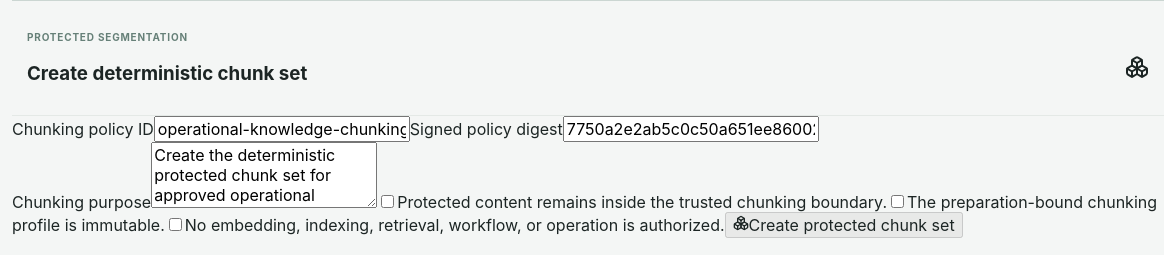
Test case: DeterministicChunkingPanel › creates only a minimized deterministic chunk-set receipt
Expected: the button "Create protected chunk set" is disabled, [725,212,963,238]
Click the checkbox labelled "Protected content remains inside the trusted chunking boundary.". click: (388, 202)
box: [381,195,394,208]
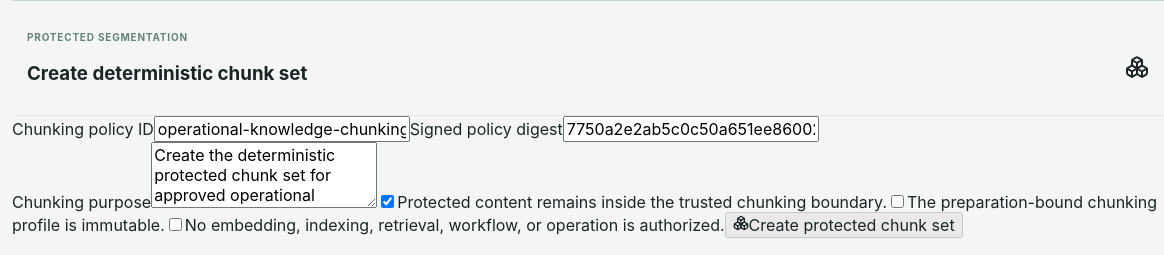
Click the checkbox labelled "The preparation-bound chunking profile is immutable.". click: (898, 202)
box: [891,195,904,208]
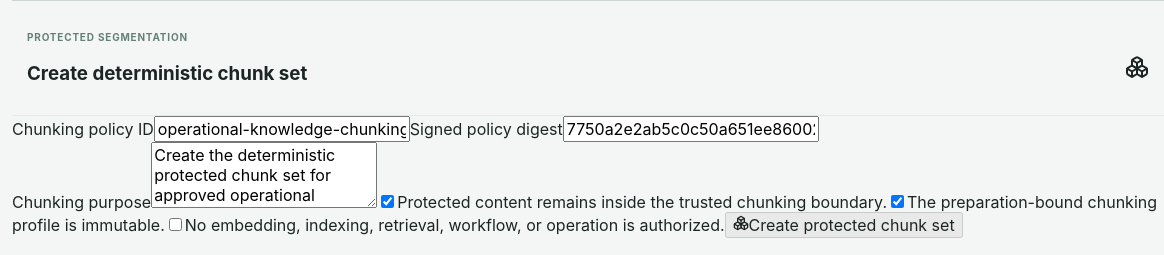
Click the checkbox labelled "No embedding, indexing, retrieval, workflow, or operation is authorized.". click: (175, 225)
box: [169,218,182,231]
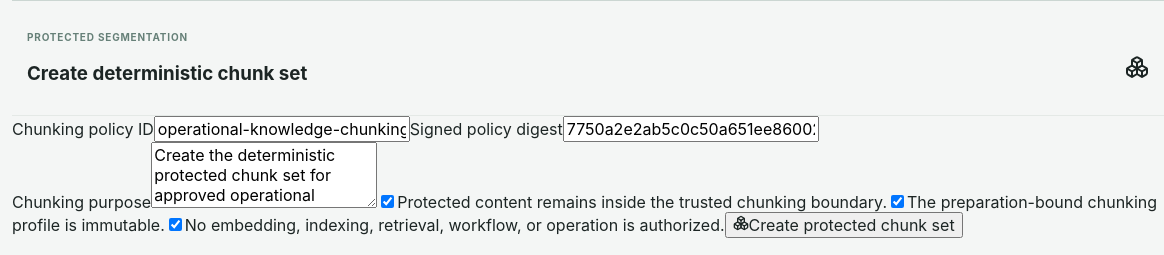
Expected: the button "Create protected chunk set" is enabled
Click the button "Create protected chunk set". click: (844, 225)
box: [725,212,963,238]
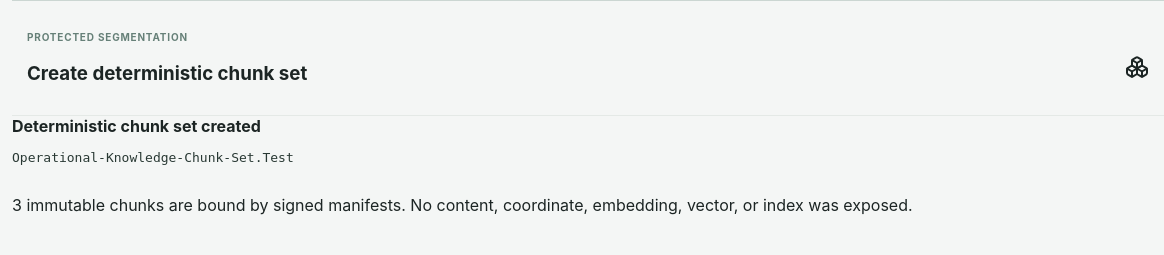
Expected: the text "Deterministic chunk set created" is shown, [12,116,261,136]
Expected: the text "3 immutable chunks are bound" is shown, [12,195,913,215]
